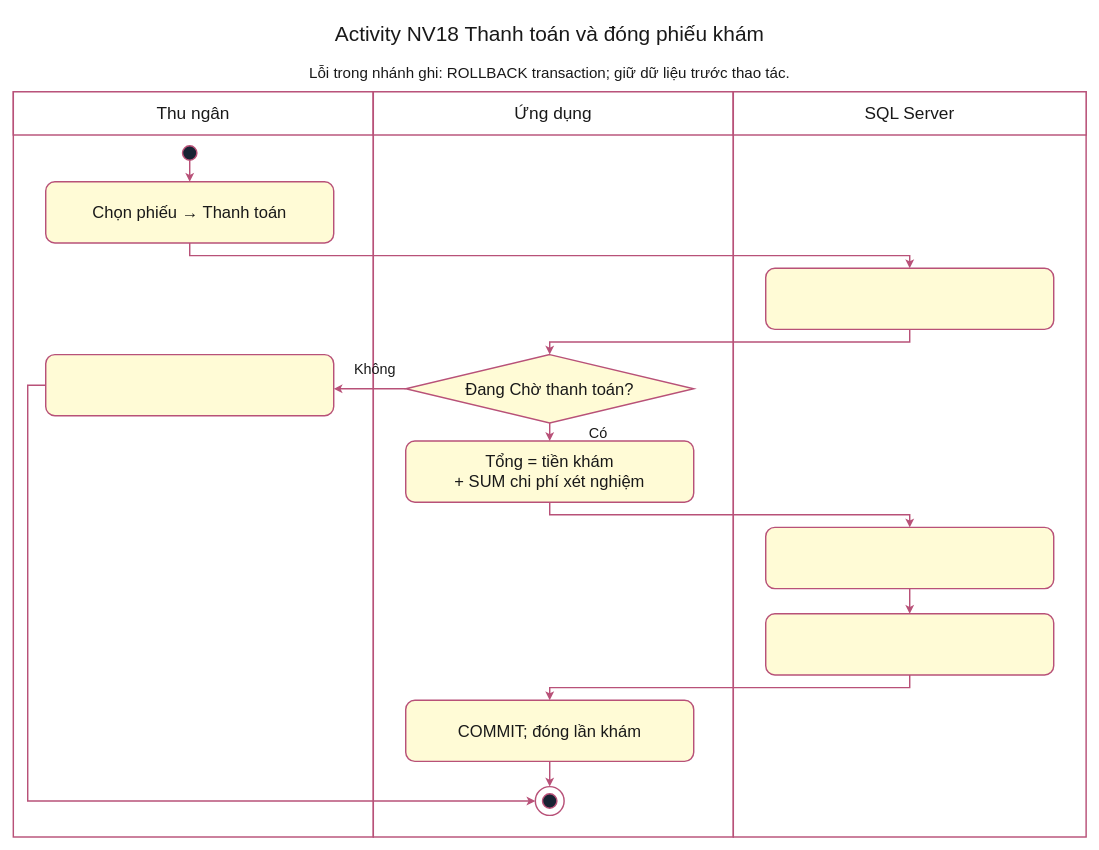
The diagram is 1099 pixels wide and 850 high, and some of its shapes have lost their labels. The centre of each missing label's shape, as x and y in pixels:
Chuyển phiếu Đã thanh toán: (909,644)
Ghi ThanhToan; MaPK duy nhất: (909,557)
Từ chối phiếu chưa kết luận hoặc đã thanh toán: (189,385)
Đọc trạng thái PhieuKham: (909,298)
